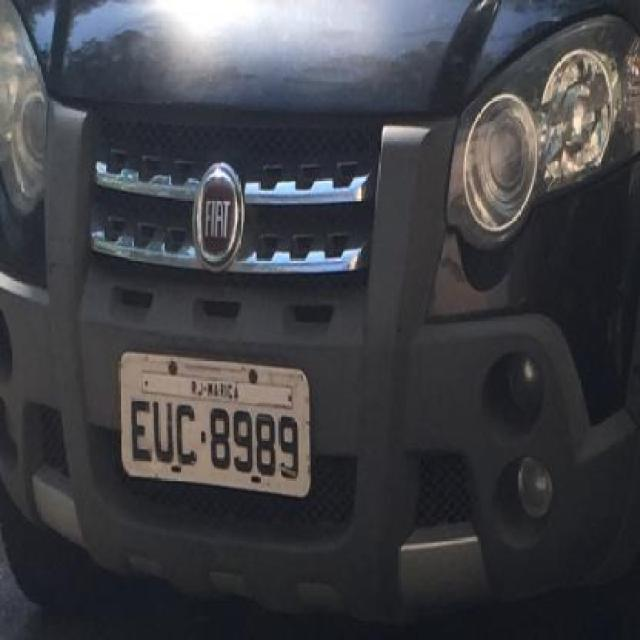old_plate: (112, 348, 321, 504)
